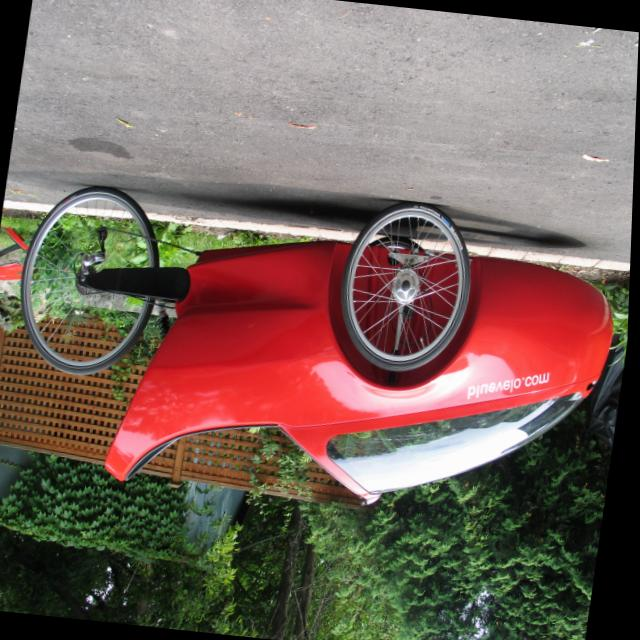recumbent-bike: (0, 162, 635, 537)
